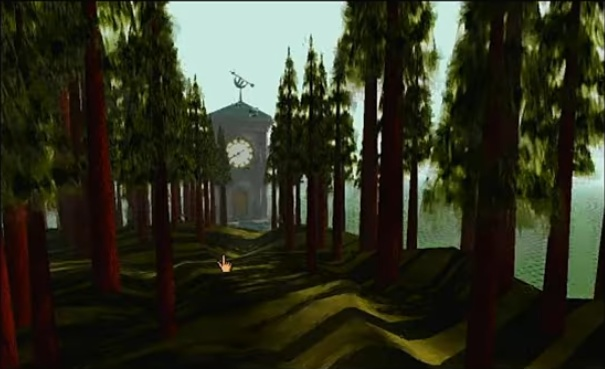Pointer: (215, 252, 236, 274)
